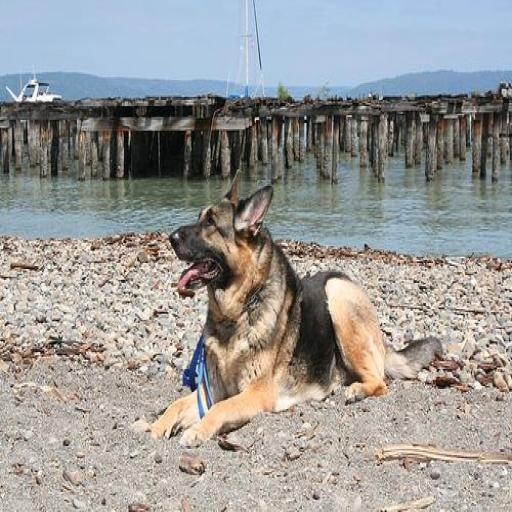dog_face: (175, 177, 272, 292)
